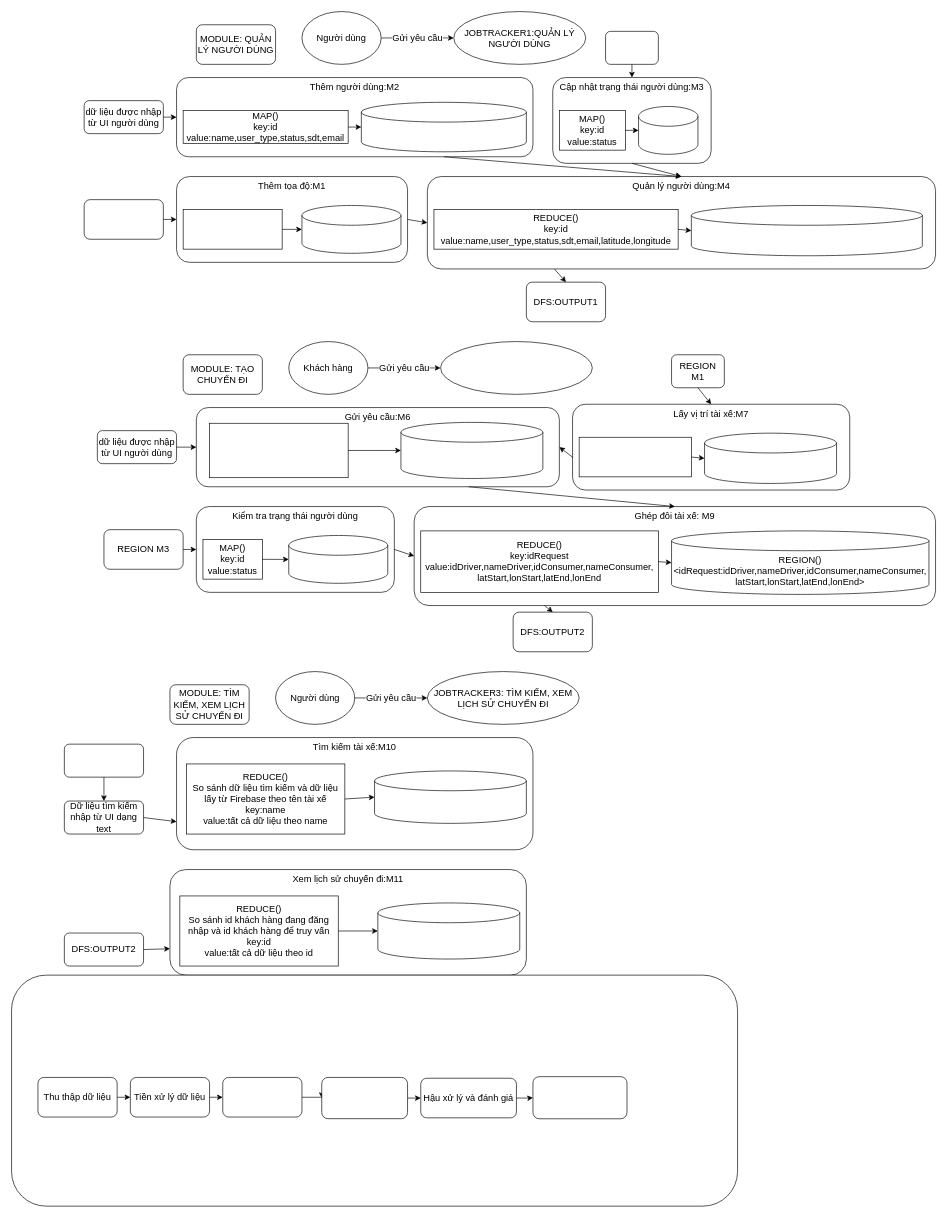
Some shapes in this 947 by 1218 pixel diagram are drawn without their labels. The shapes that lost their labels are listed below. From the top down, each one's centre as x and y in pixels, then its label:
the point at 631,47: REGION M9
the point at 443,127: REGION() <id:name,user_type,status,sdt,email>
the point at 668,130: REGION()<id:status>
the point at 123,219: dữ liệu lấy từ hệ thống định vị GPS
the point at 232,229: MAP() key:id value:latitude,longitude
the point at 351,229: REGION()<id:latitude,longitude>
the point at 806,230: REGION() <id:name,user_type,status,sdt,email,latitude,longitude>
the point at 516,367: JOBTRACKER2:TẠO CHUYẾN ĐI
the point at 278,450: MAP() key:request_id value:name,sdt,latStart,lonStart, latEnd,lonEnd,driver_id
the point at 471,450: REGION() <id:name,sdt,latStart,lonStart, latEnd,lonEnd,driver_id>
the point at 634,457: MAP() key:driver_id value:latitude,longitude
the point at 770,457: REGION() <driver_id:latitude,longitude>
the point at 338,559: REGION() <id:status>
the point at 104,760: DFS:OUTPUT 1
the point at 450,796: REGION() <name:tất cả dữ liệu theo name>
the point at 448,930: REGION() id:tất cả dữ liệu theo id
the point at 262,1097: Xây dựng prompt
the point at 364,1098: Mô hình ngôn ngữ lớn (LLM)
the point at 579,1097: Tổng hợp và báo cáo kết quả
